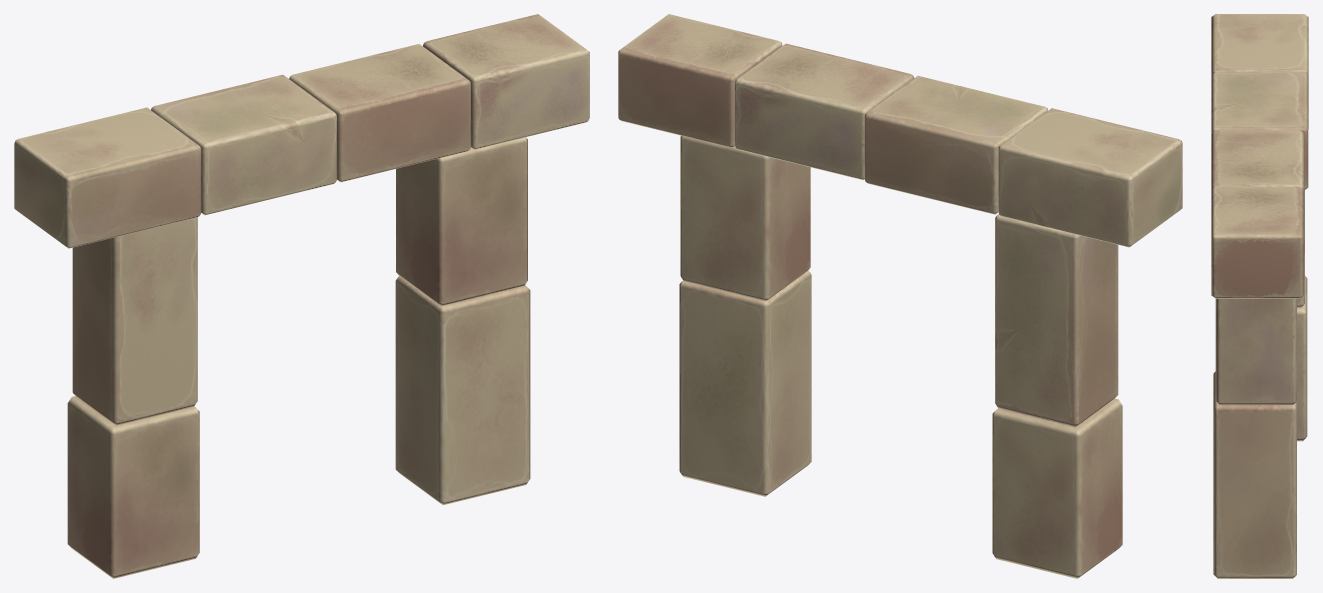
Rendered from exteriorarch2.fbx.
3 views of the same model, side by side, from view 1: azimuth 30°, elevation 25°; view 2: azimuth 150°, elevation 25°; view 3: azimuth 270°, elevation 25° (orthographic). The views are drawn at different scales.
Parts seen in each view (by area): view 1: exteriorarch2_LOD0; view 2: exteriorarch2_LOD0; view 3: exteriorarch2_LOD0.
Boxes of the visible parts, x1,y1,x2,y2 form: exteriorarch2_LOD0: (14,14,589,578); exteriorarch2_LOD0: (618,14,1182,578); exteriorarch2_LOD0: (1211,14,1308,578).
Bounding box in the file's own units: 3.51 × 2.71 × 0.6471.
